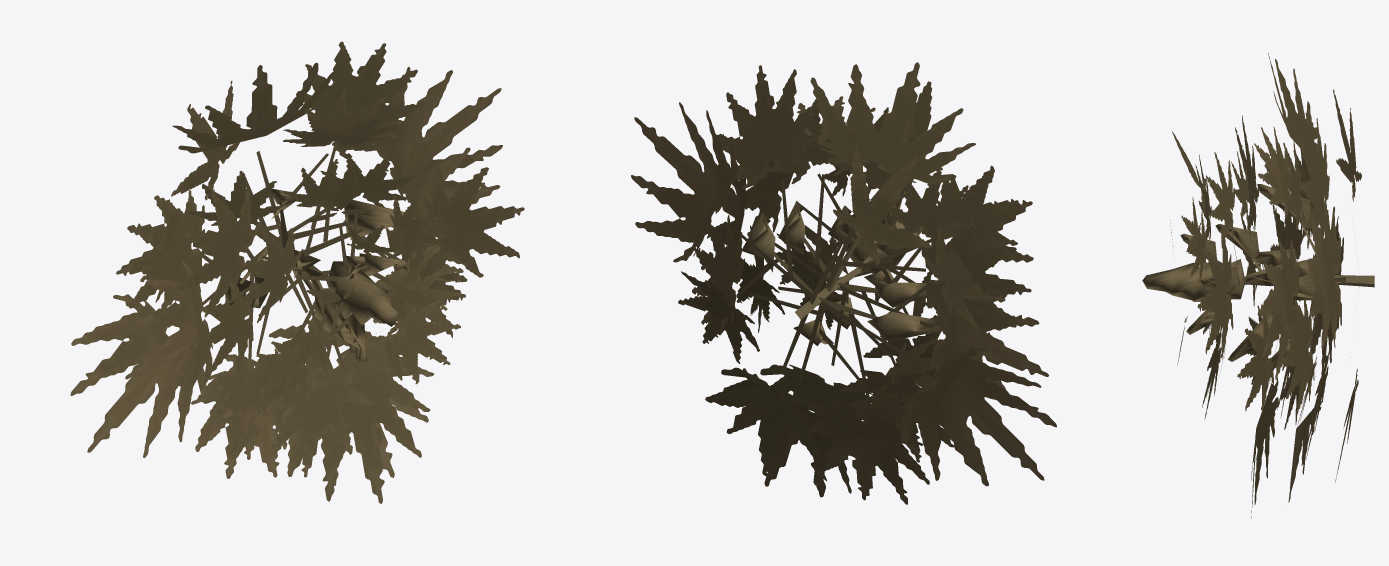
Rendered from p_haze_ripe_c4_cards.obj.
3 views of the same model, side by side, from view 1: azimuth 30°, elevation 25°; view 2: azimuth 150°, elevation 25°; view 3: azimuth 270°, elevation 25° (orthographic). The views are drawn at different scales.
Size of the model in its own units: 1.64 by 1.53 by 0.677.
Materials: 1 (1 with a texture image).
